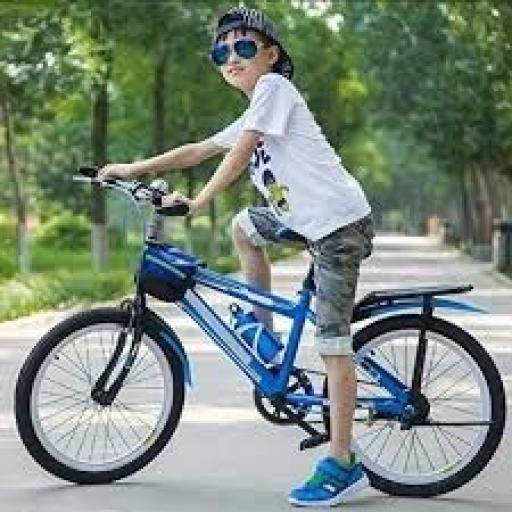cycling: (91, 4, 380, 510)
